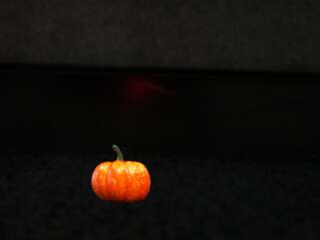Pumpkin: (90, 143, 151, 205)
